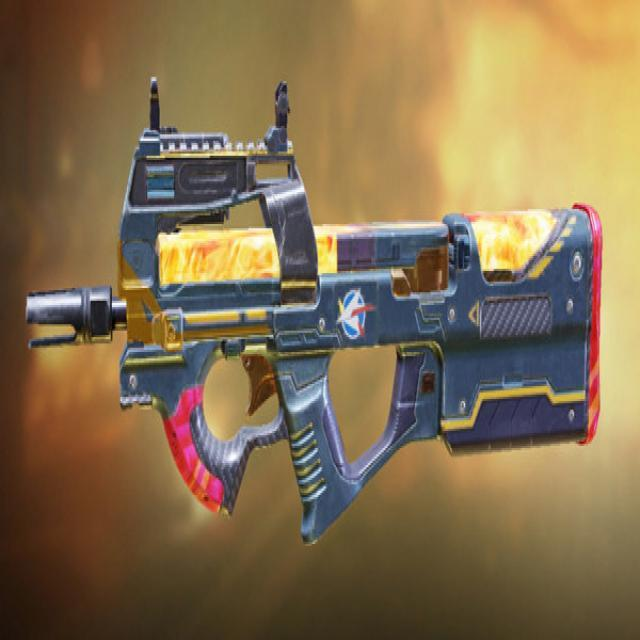smg: (23, 72, 616, 554)
